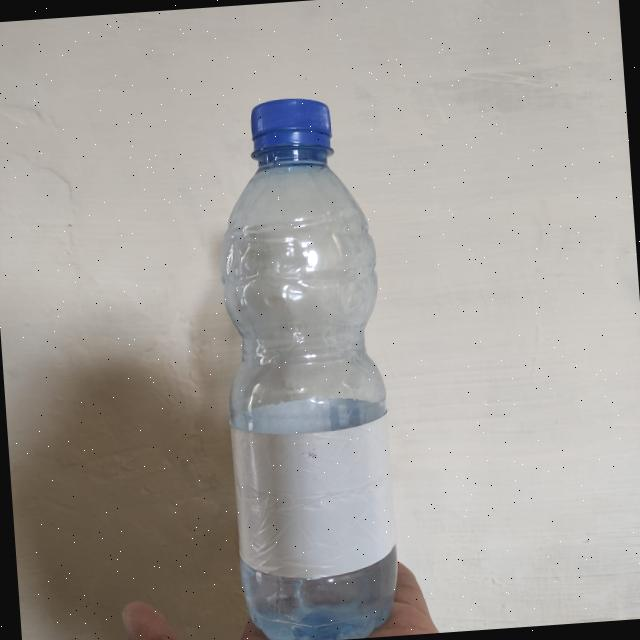bottle: (204, 88, 393, 640)
cap: (244, 94, 336, 168)
label: (232, 421, 396, 576)
